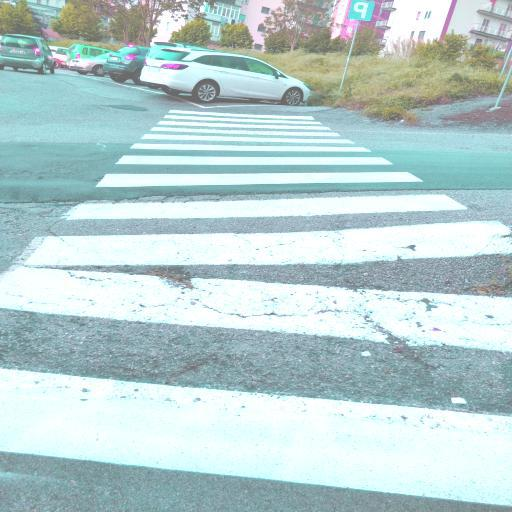crosswalk: (60, 168, 476, 224), (134, 124, 366, 146)
